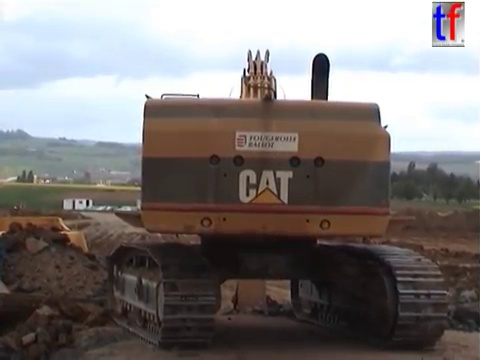excavator: (101, 44, 452, 353)
truck: (1, 212, 122, 360)
